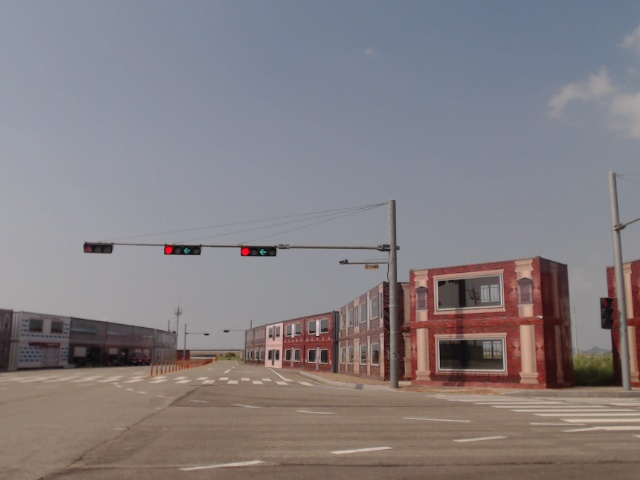left_green_4: (164, 246, 201, 256), (241, 246, 276, 256)
